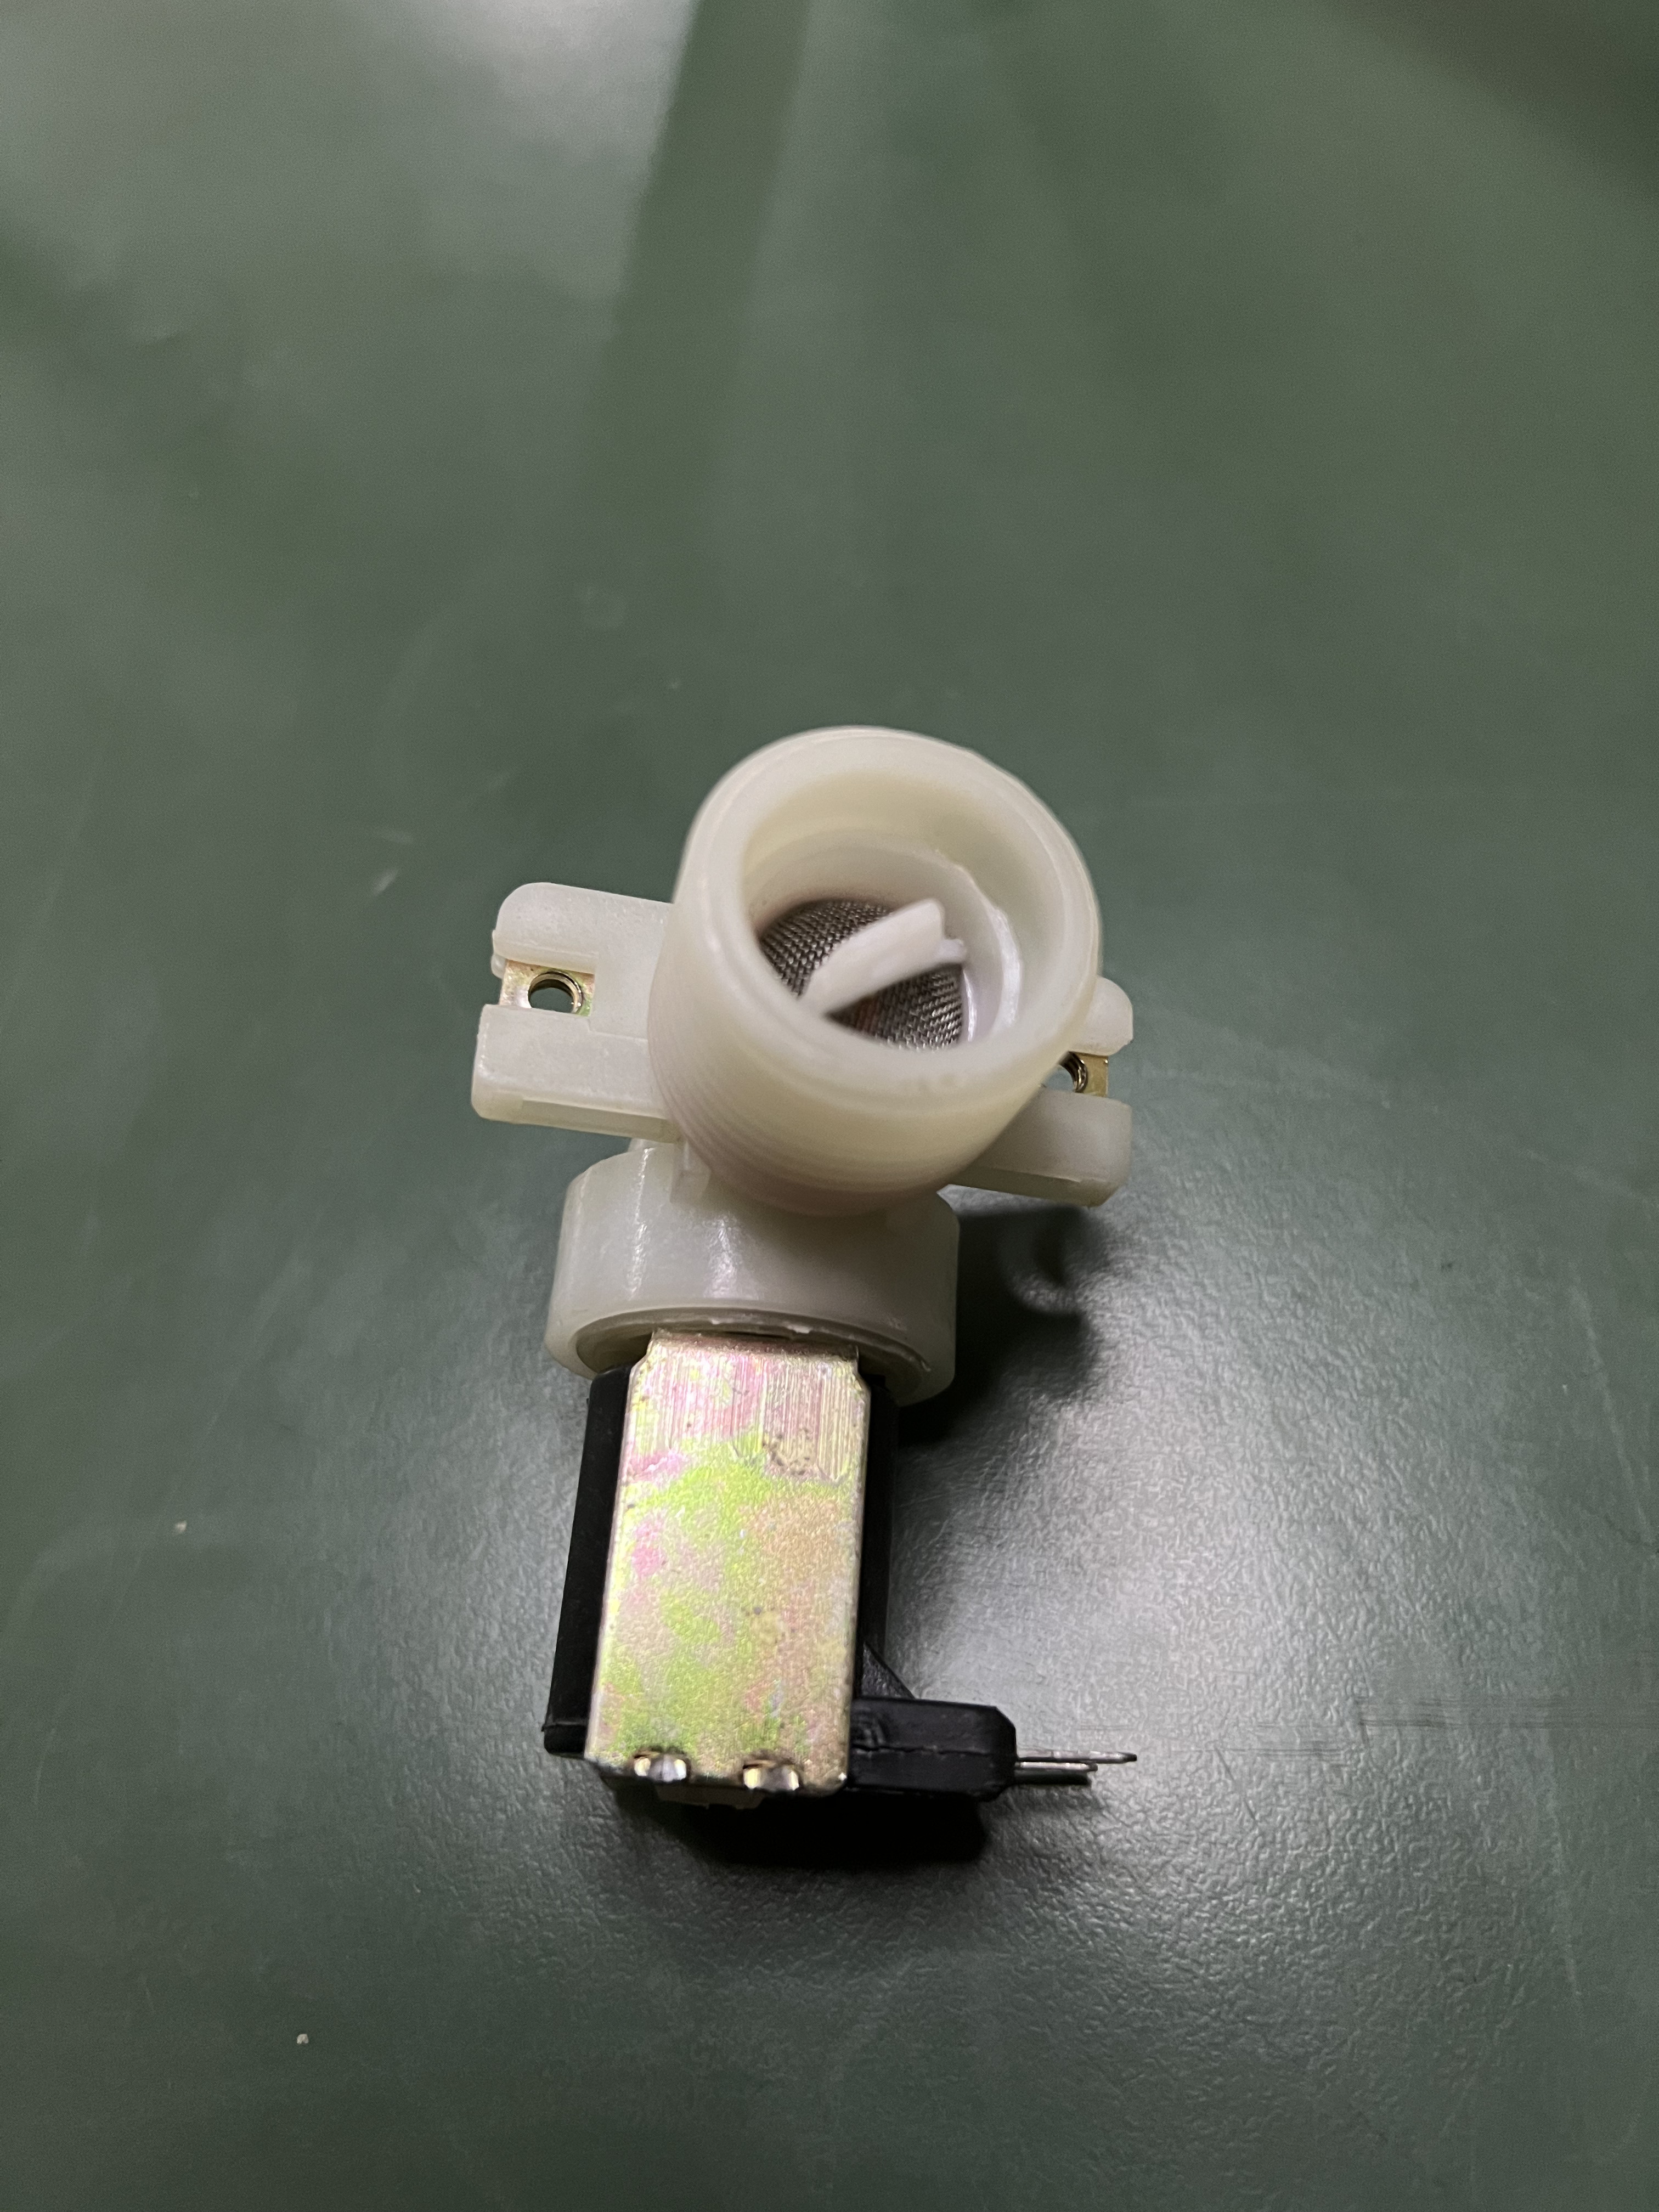godrej_inlet_valves: (408, 695, 1246, 1883)
